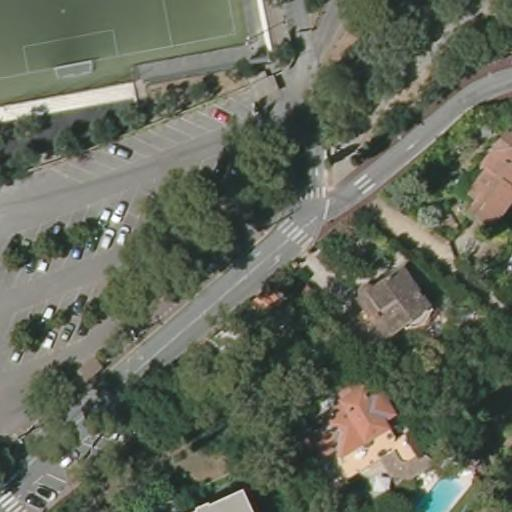pool: (416, 462, 471, 511)
